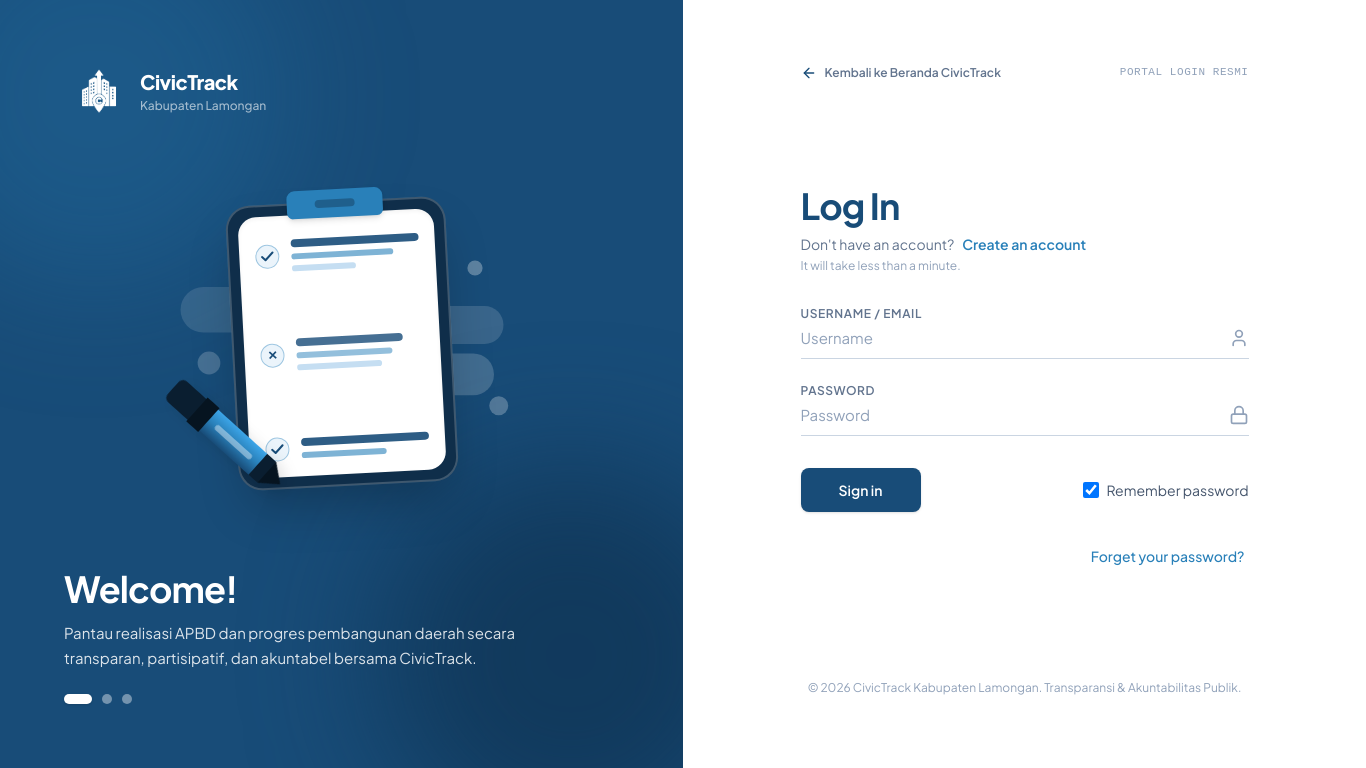
LoginPage Component › switches between Login and Create an Account modes
Note: Click 'Create an account'
Click the button "Create an account" at [1024, 244], box [960,234,1088,254]
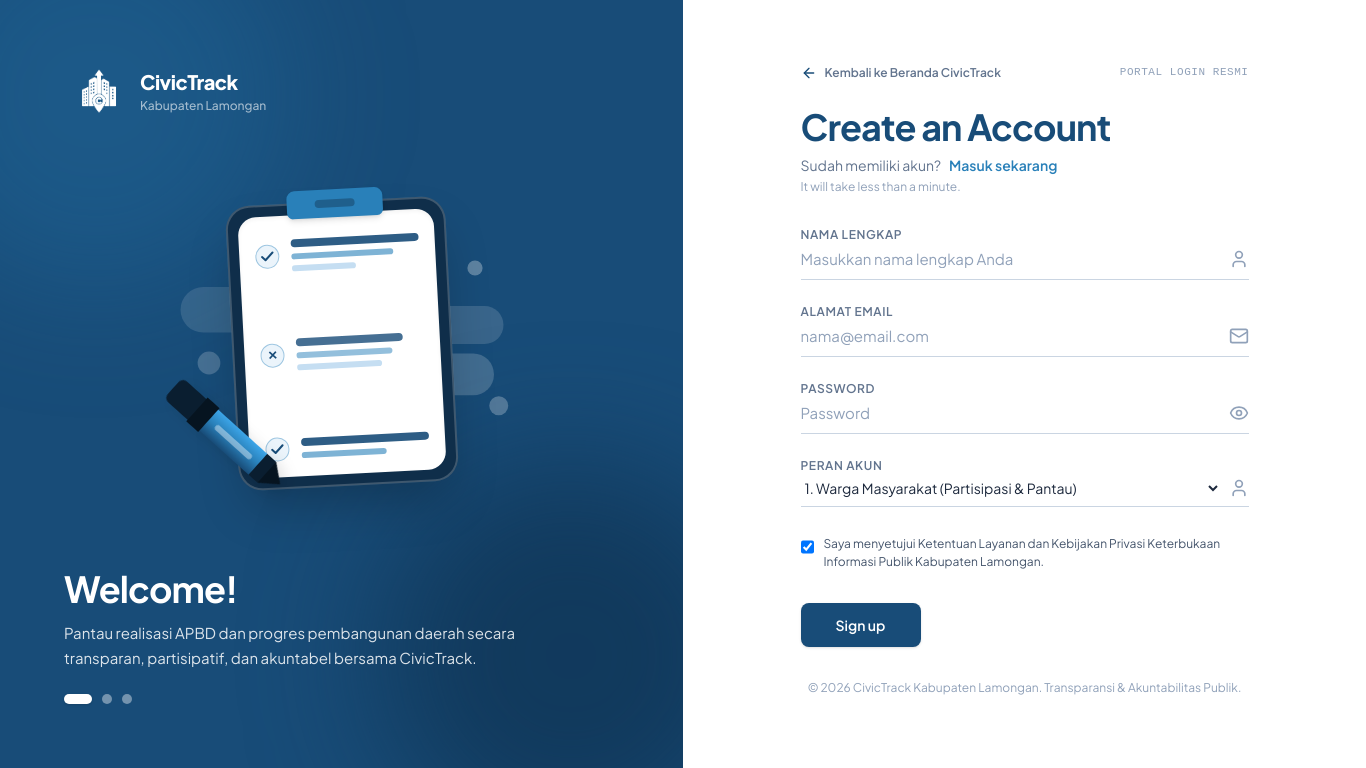
Now the heading "Create an Account" is shown, box [800,104,1110,149]
Now the field with placeholder "Masukkan nama lengkap Anda" is shown, box [800,247,1220,271]
Now the field with placeholder "nama@email.com" is shown, box [800,324,1220,348]
Note: Switch back to Login
Click the button "Masuk sekarang" at [1003, 165], box [947,155,1059,175]
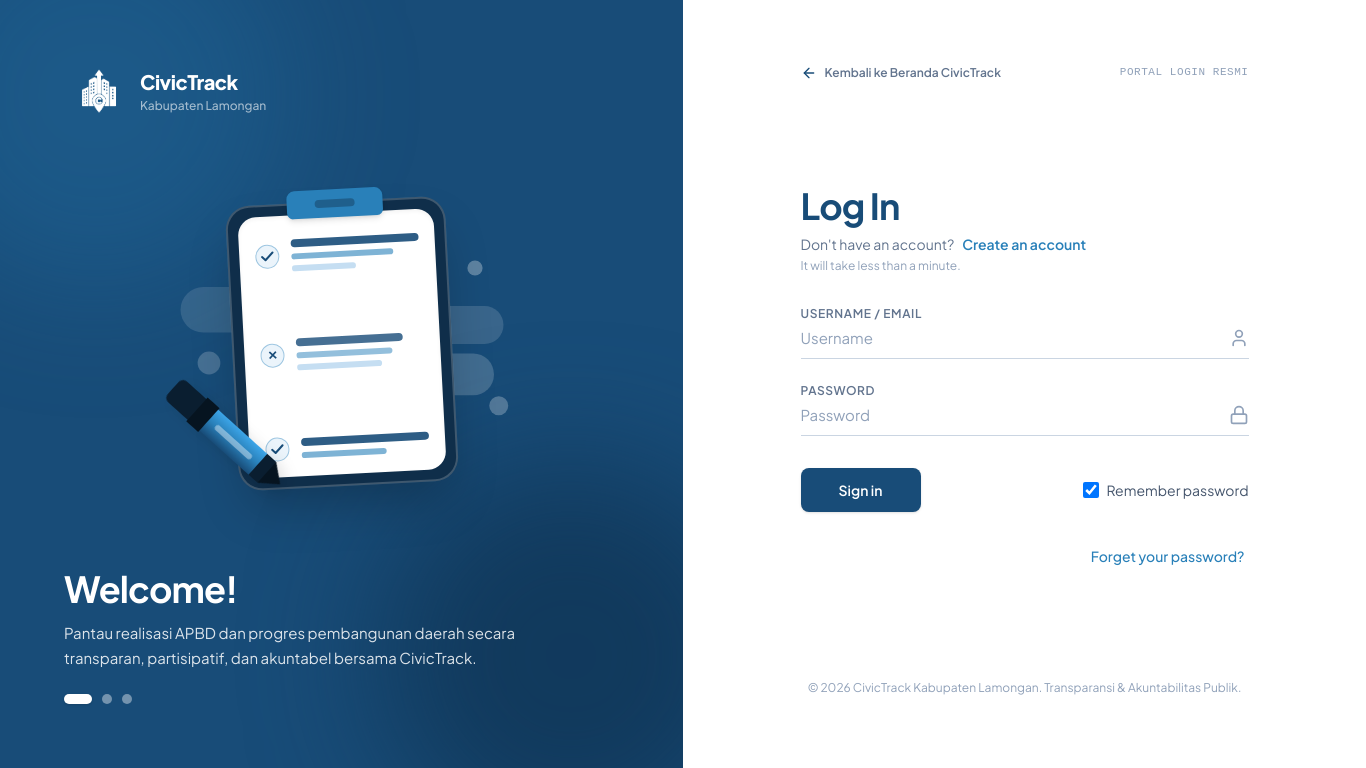
Now the heading "Log In" is shown, box [800,183,899,228]
